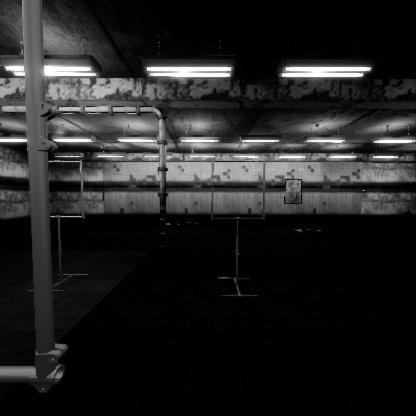gate: (211, 195, 270, 256), (31, 197, 88, 255)
